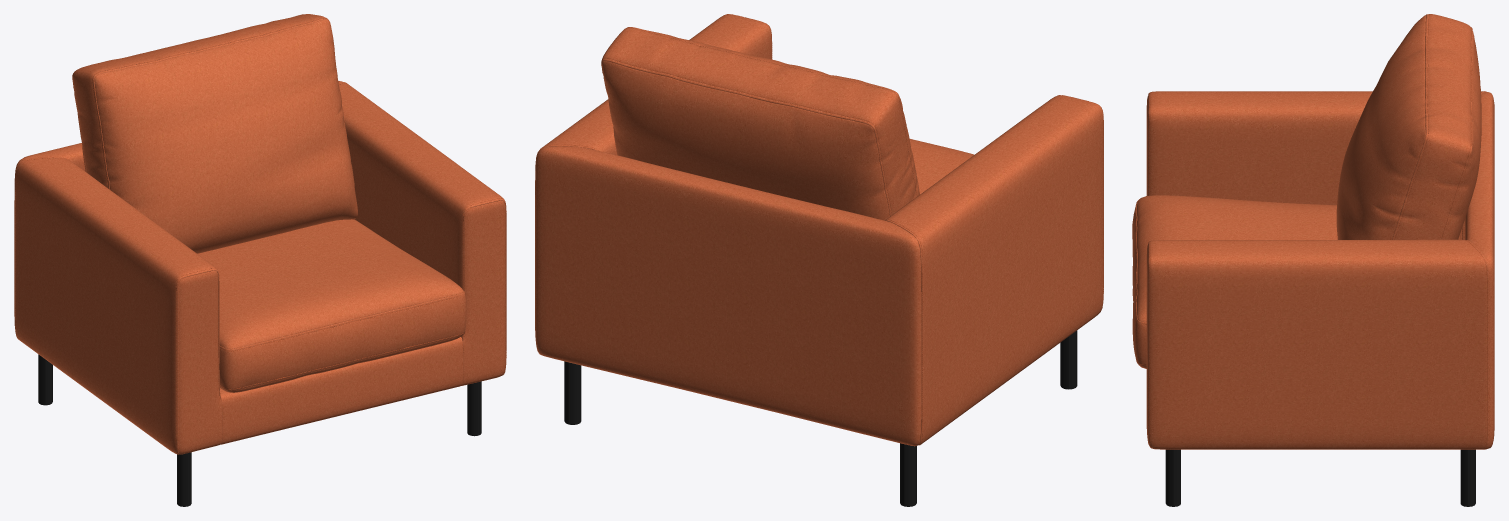
The model's file is saltsjoebaden_armchair_tonerud_red_brown.glb.
The picture shows the model from 3 angles, left to right: view 1: azimuth 30°, elevation 25°; view 2: azimuth 150°, elevation 25°; view 3: azimuth 270°, elevation 25°; orthographic projection. The views are drawn at different scales.
Visible parts, largest first — view 1: 0001.001, 0006.001, 0002.001; view 2: 0001.001, 0006.001, 0002.001; view 3: 0001.001, 0006.001, 0002.001.
Part boxes in pixels (x1,y1,x2,y2): 0001.001: (14, 14, 506, 454); 0006.001: (38, 354, 481, 506); 0002.001: (15, 18, 506, 452); 0001.001: (535, 14, 1103, 446); 0006.001: (564, 330, 1077, 506); 0002.001: (547, 14, 1103, 441); 0001.001: (1132, 14, 1494, 449); 0006.001: (1165, 449, 1475, 506); 0002.001: (1135, 18, 1487, 449).
Bounding box in the file's own units: 0.93 × 0.8901 × 0.82.
2 materials, 1 textured.
